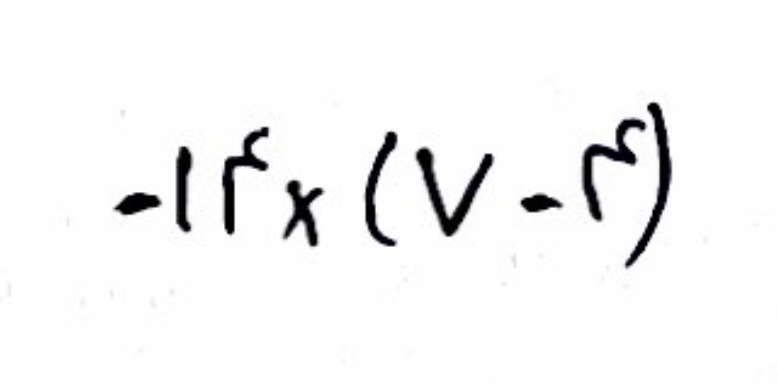character: (412, 145, 496, 238), (582, 119, 650, 224), (223, 124, 270, 237), (641, 101, 669, 268), (364, 129, 400, 251), (284, 178, 325, 247), (172, 143, 200, 231), (113, 189, 165, 212), (518, 193, 569, 212)
